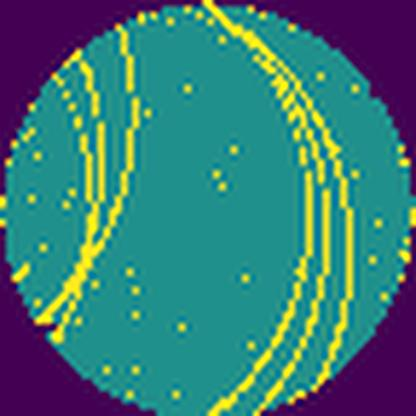Scratch: (198, 0, 362, 416), (29, 20, 145, 350)
